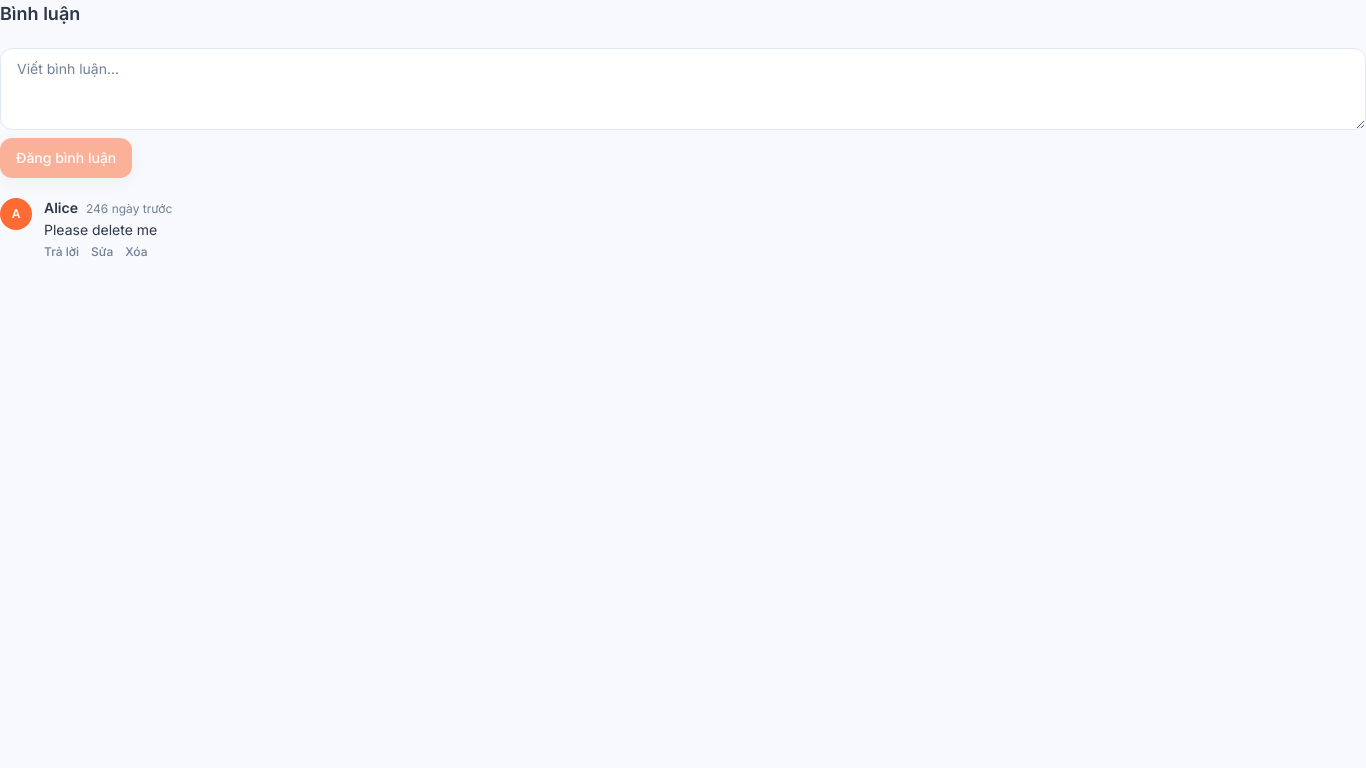
it: CommentSection › removes a comment from the list when it's deleted
The width and height of the screenshot is (1366, 768).
Click the button "Xóa".
click(136, 252)  # box [125,244,148,260]
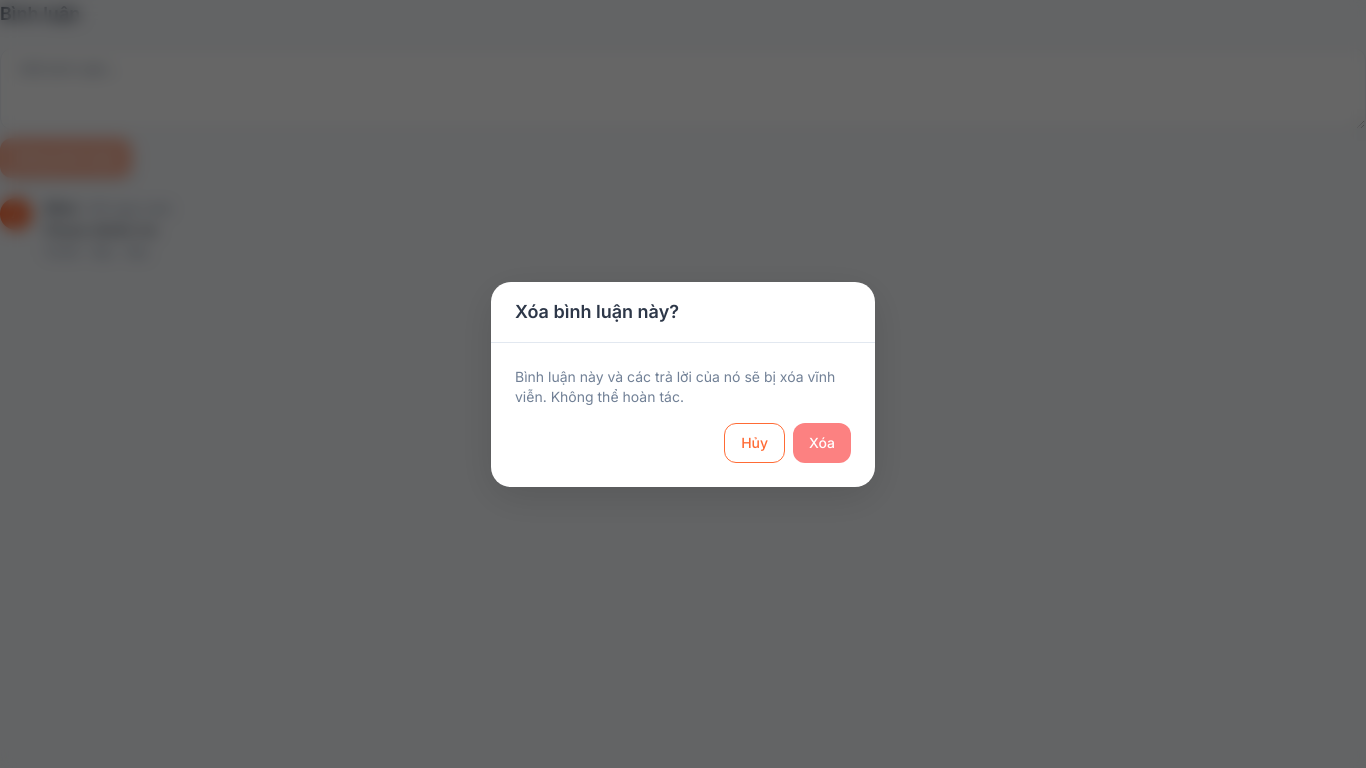
Click the button "Xóa".
click(822, 442)  # box [793,422,851,462]
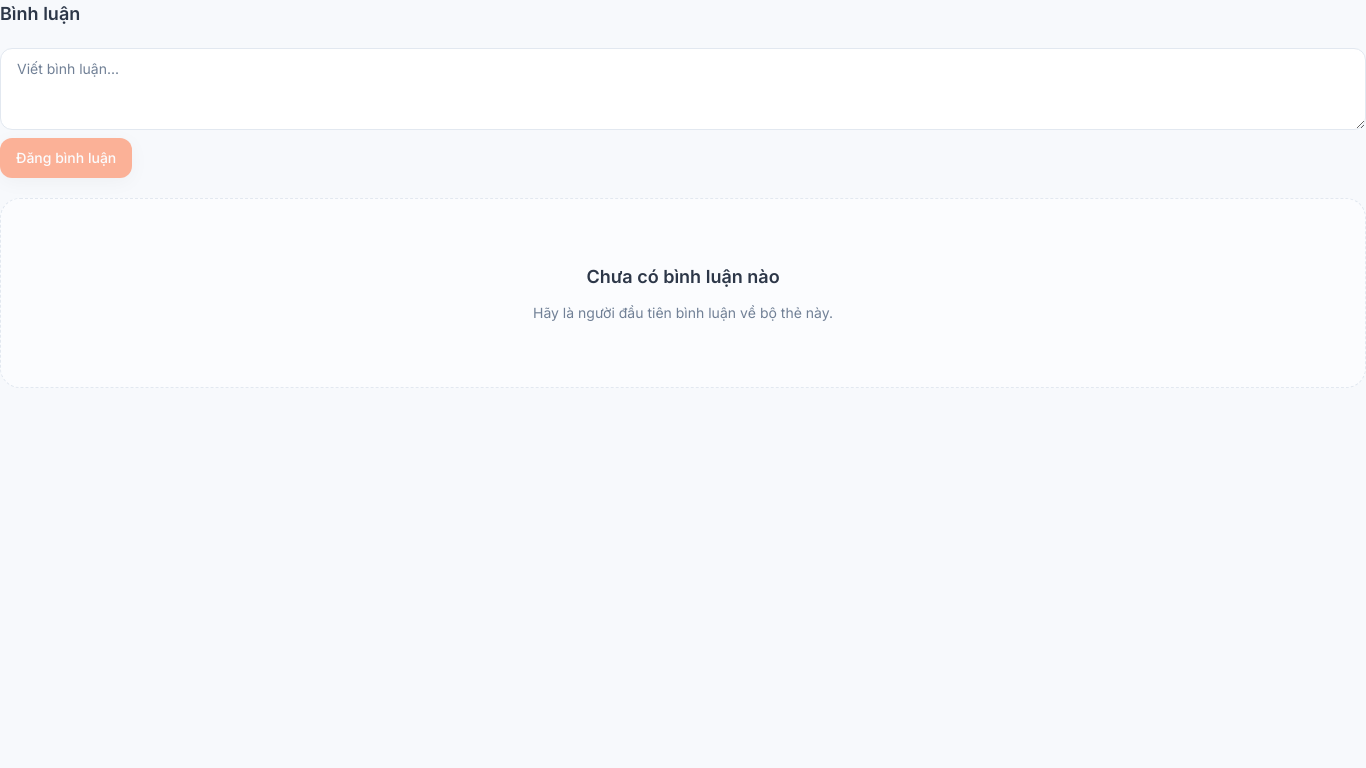
Check: the text "Please delete me" is gone
Check: the heading "Chưa có bình luận nào" is shown, box [586,263,780,291]
